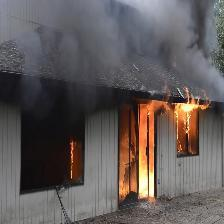fire: (133, 96, 167, 199), (171, 88, 209, 154), (66, 138, 78, 179)
